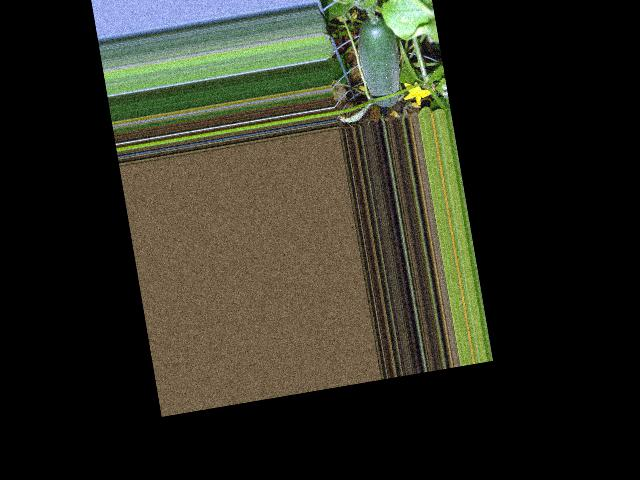cucumber: (352, 13, 406, 110)
